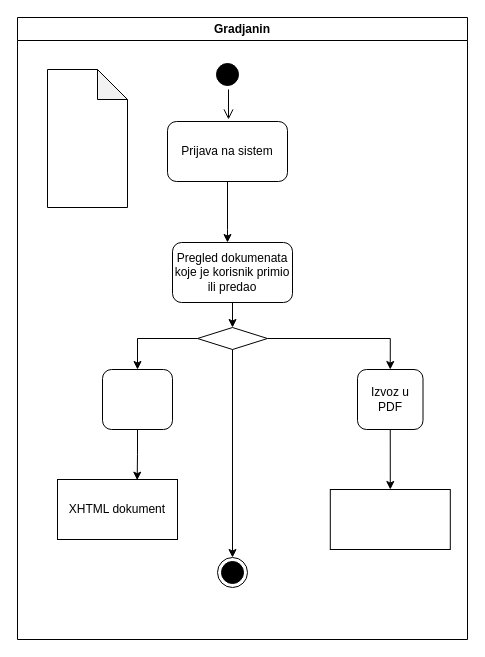
Image size: 485x657. Some labels were removed from this diagram. The shapes that lost their labels are listed below. From the top down, each one's centre as x and y in pixels, then its label:
At (x=87, y=138): "Pregled poslatih i predatih dokumenata".
At (x=137, y=399): "Izvoz u XHTML".
At (x=389, y=519): "PDF dokument".
